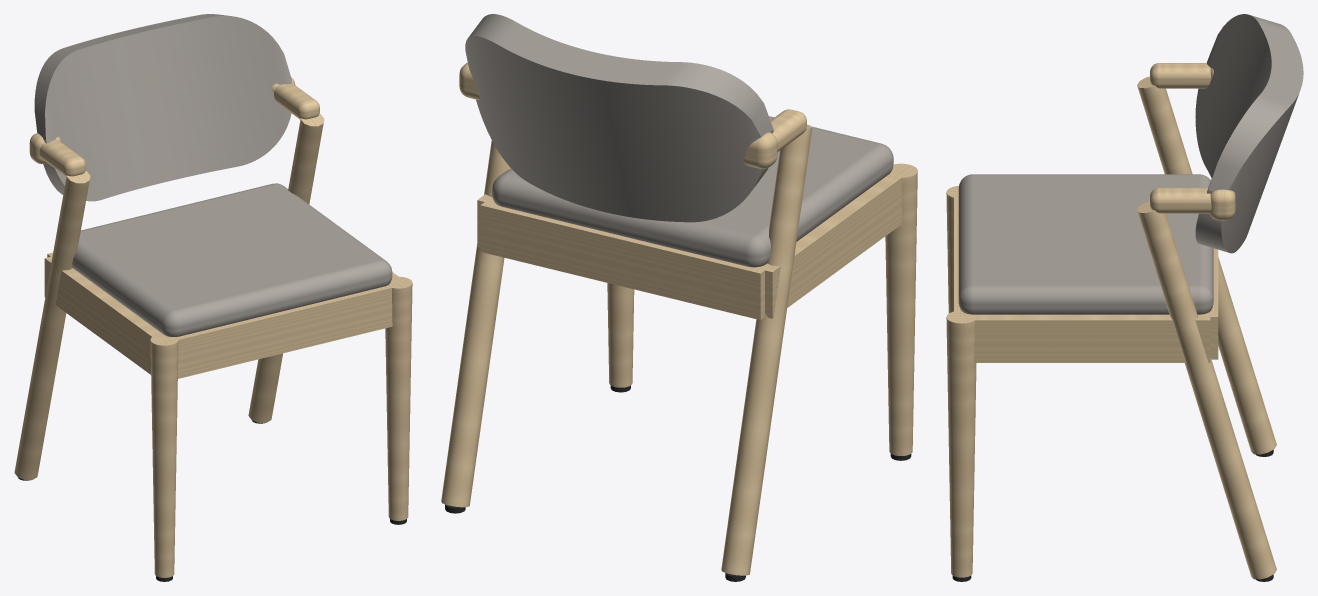
Rendered from ownMiyazaki.glb.
The picture shows the model from 3 angles, left to right: view 1: azimuth 30°, elevation 25°; view 2: azimuth 150°, elevation 25°; view 3: azimuth 270°, elevation 25°; orthographic projection. The views are drawn at different scales.
Bounding box in the file's own units: 0.49 × 0.7496 × 0.5317.
Materials: 3 (1 with a texture image).
